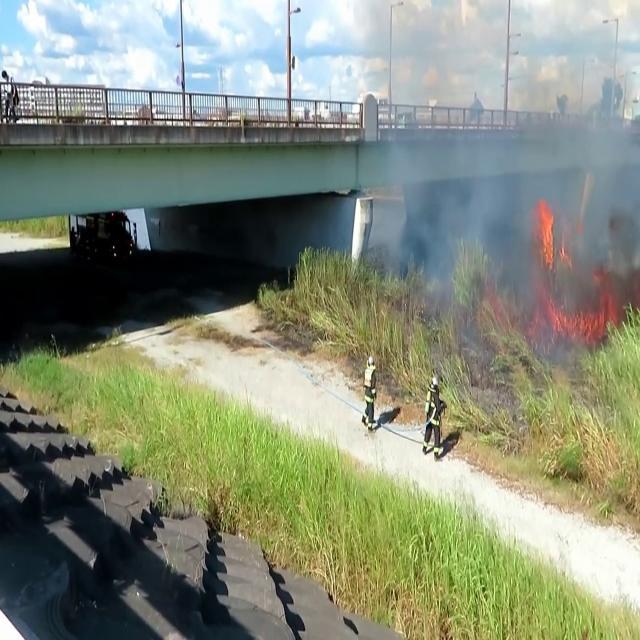Fire: (532, 187, 560, 277)
Smoke: (381, 40, 633, 344)
